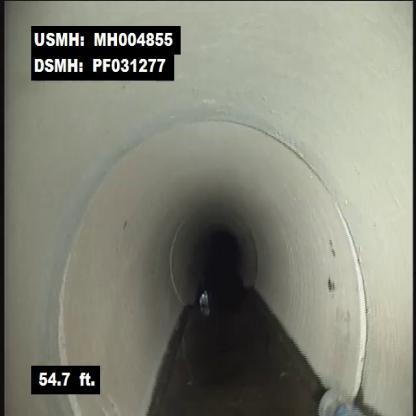jntoffs: (333, 188, 388, 388)
obsc: (300, 375, 372, 415)
